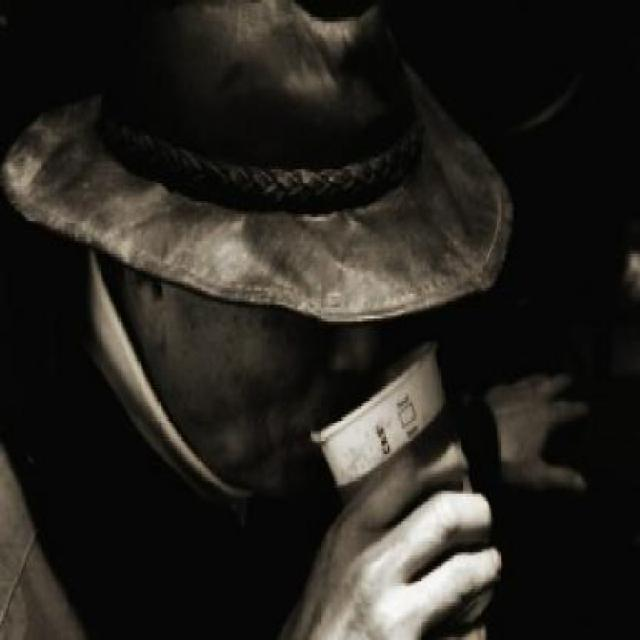hat: (0, 3, 517, 331)
